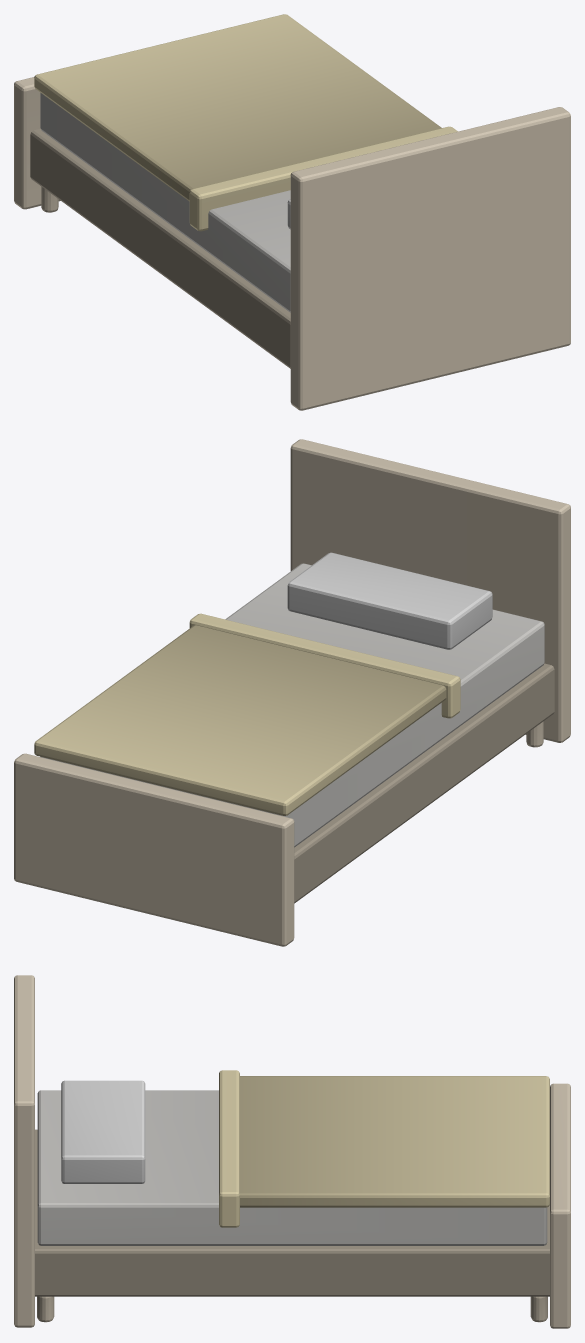
The model's file is furn_bed__butter.glb.
3 views of the same model, one above another, from view 1: azimuth 30°, elevation 25°; view 2: azimuth 150°, elevation 25°; view 3: azimuth 270°, elevation 25° (orthographic). The views are drawn at different scales.
Bounding box in the file's own units: 1.16 × 0.955 × 2.12.
